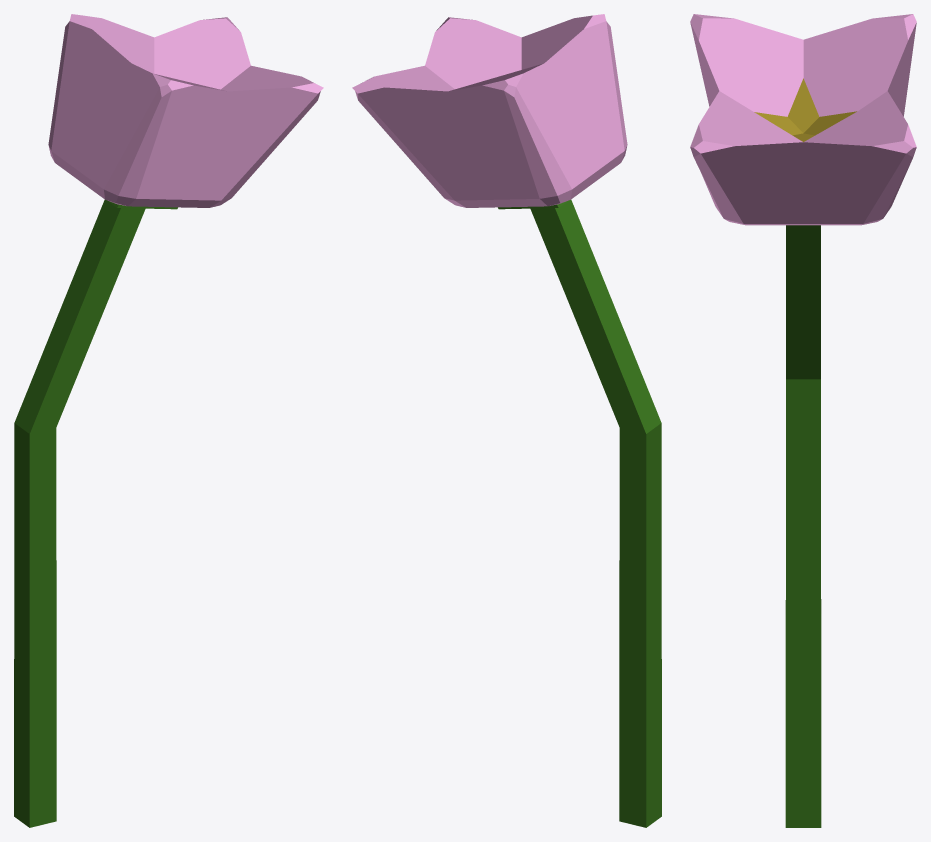
The model's file is Tulip_flower_1.fbx.
3 renders of one model, left to right at view 1: azimuth 30°, elevation 25°; view 2: azimuth 150°, elevation 25°; view 3: azimuth 270°, elevation 25°, orthographic. The views are drawn at different scales.
Visible parts, largest first — view 1: Tulip_flower_1; view 2: Tulip_flower_1; view 3: Tulip_flower_1.
Boxes of the visible parts, <box> form: Tulip_flower_1: <box>14,14,323,827</box>; Tulip_flower_1: <box>352,14,661,827</box>; Tulip_flower_1: <box>690,14,916,827</box>.
Size of the model in its own units: 11.68 by 32.91 by 7.92.
